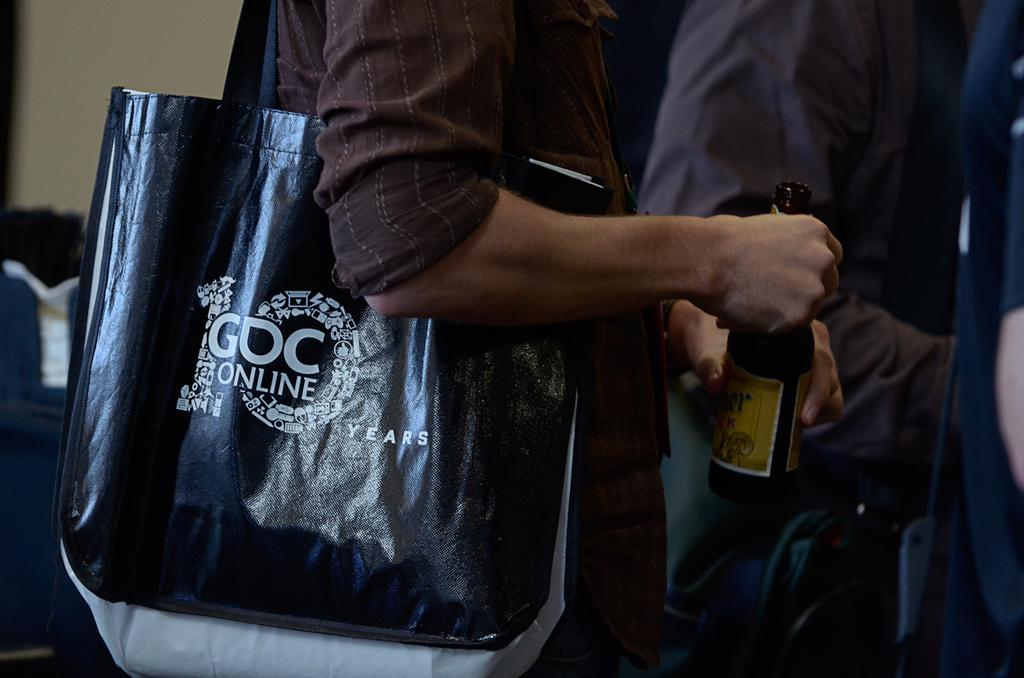Luggage-and-bags: (49, 0, 579, 677)
